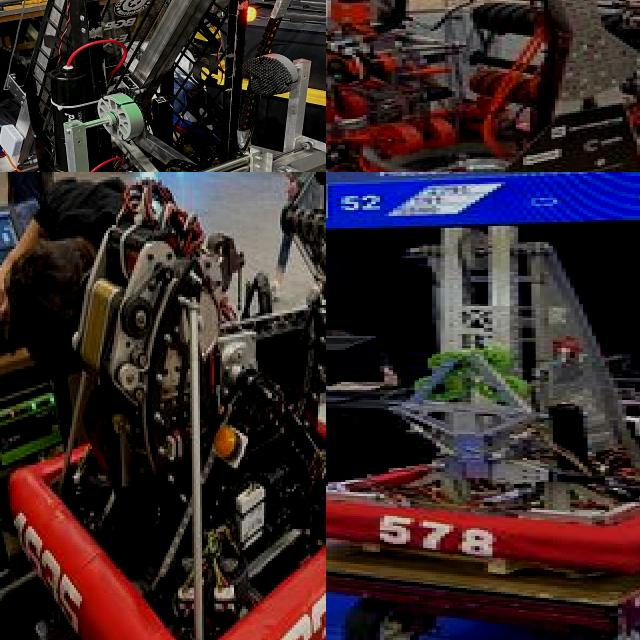FRC-Robots: (2, 183, 326, 640), (326, 188, 640, 602), (0, 0, 326, 172), (326, 0, 640, 172)
